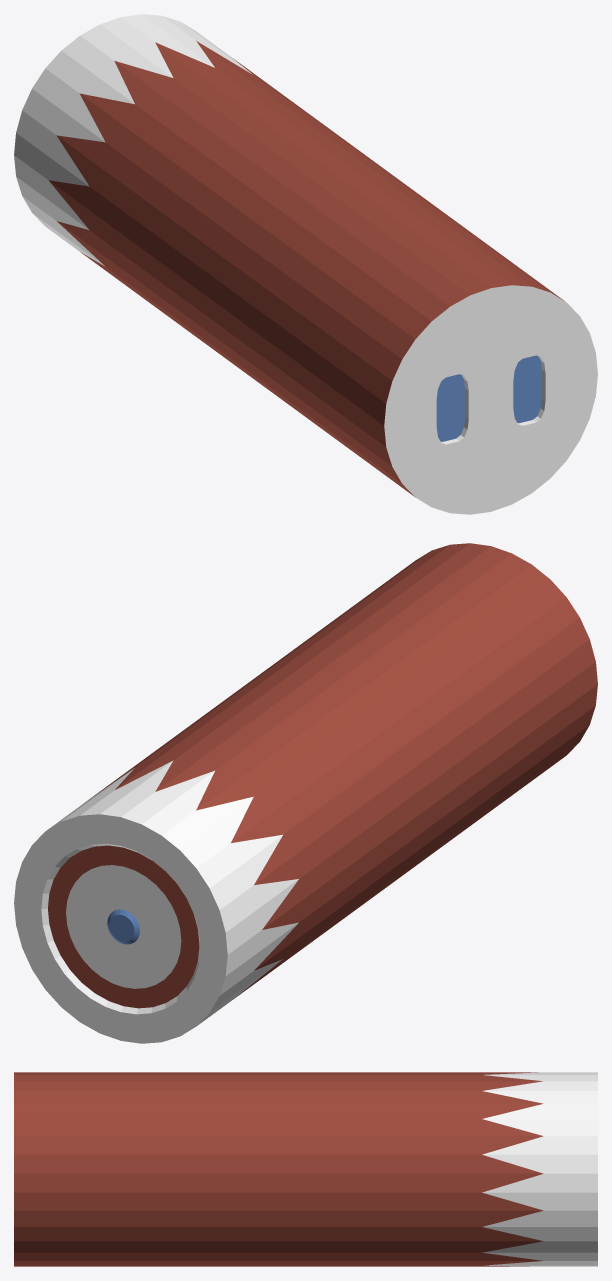
Rendered from EyeCylinder0.5x3_2.fbx.
The picture shows the model from 3 angles, top to bottom: view 1: azimuth 30°, elevation 25°; view 2: azimuth 150°, elevation 25°; view 3: azimuth 270°, elevation 25°; orthographic projection. The views are drawn at different scales.
Parts seen in each view (by area): view 1: EyeCylinder0.5x3_2; view 2: EyeCylinder0.5x3_2, Eye.002; view 3: EyeCylinder0.5x3_2.
Boxes of the visible parts, x1,y1,x2,y2 form: EyeCylinder0.5x3_2: (14, 14, 597, 514); EyeCylinder0.5x3_2: (14, 543, 597, 1043); Eye.002: (107, 909, 139, 944); EyeCylinder0.5x3_2: (14, 1072, 597, 1266).
Size of the model in its own units: 0.5 by 0.5 by 1.5.
